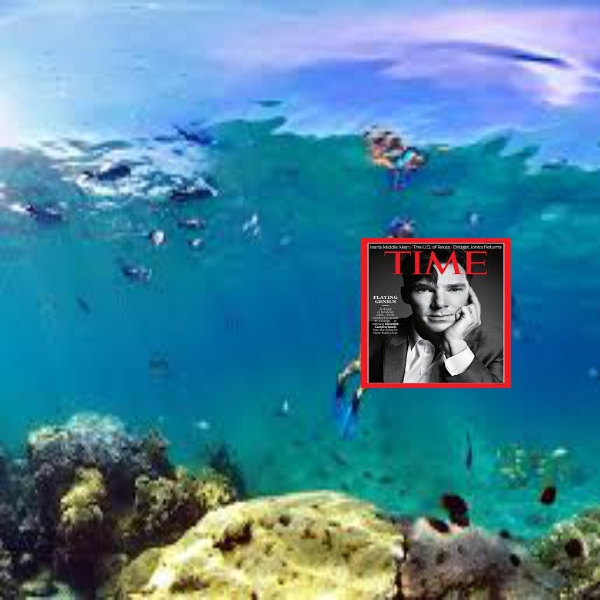time_cover: (349, 225, 513, 391)
